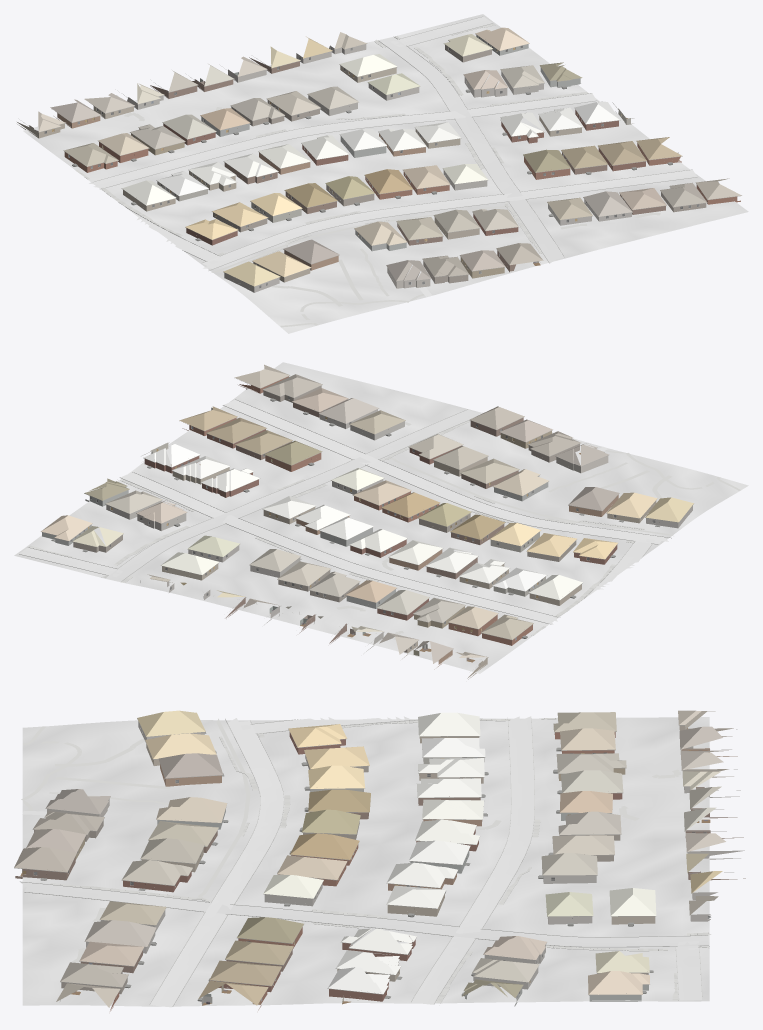
3 views of the same model, one above another, from view 1: azimuth 30°, elevation 25°; view 2: azimuth 150°, elevation 25°; view 3: azimuth 270°, elevation 25° (orthographic). The views are drawn at different scales.
Parts seen in each view (by area): view 1: ground, roof, concrete, wall, detail, walk, wall_stone, wall_stucco, curb, glass; view 2: ground, roof, concrete, wall, detail, walk, curb, wall_stucco, wall_stone; view 3: ground, roof, concrete, wall, walk, detail, curb, wall_stone, wall_stucco.
Part boxes in pixels (x1,y1,x2,y2): ground: [23, 14, 748, 333]; roof: [38, 27, 741, 286]; concrete: [89, 16, 697, 296]; wall: [17, 41, 740, 283]; detail: [23, 34, 741, 288]; walk: [75, 23, 660, 327]; wall_stone: [127, 44, 631, 292]; wall_stucco: [93, 35, 633, 288]; curb: [86, 16, 697, 270]; glass: [31, 37, 699, 288]; ground: [14, 362, 748, 673]; roof: [41, 364, 693, 663]; concrete: [20, 400, 668, 624]; wall: [73, 376, 656, 679]; detail: [41, 375, 693, 665]; walk: [28, 420, 740, 639]; curb: [19, 399, 671, 627]; wall_stucco: [42, 442, 608, 658]; wall_stone: [106, 409, 692, 651]; ground: [22, 717, 709, 1006]; roof: [14, 710, 728, 1007]; concrete: [20, 716, 708, 1007]; wall: [15, 725, 745, 1011]; walk: [21, 717, 711, 1002]; detail: [14, 718, 740, 1002]; curb: [20, 717, 708, 1006]; wall_stone: [86, 721, 744, 989]; wall_stucco: [47, 757, 733, 1006].
Bounding box in the file's own units: 261 × 15.26 × 267.
